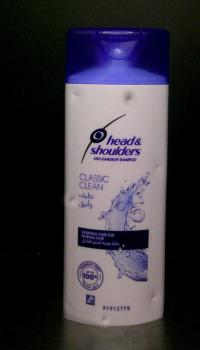dent_unacceptable: (141, 281, 164, 312), (93, 301, 113, 329), (66, 85, 90, 108), (117, 88, 142, 108), (147, 155, 164, 183), (66, 188, 81, 208)
